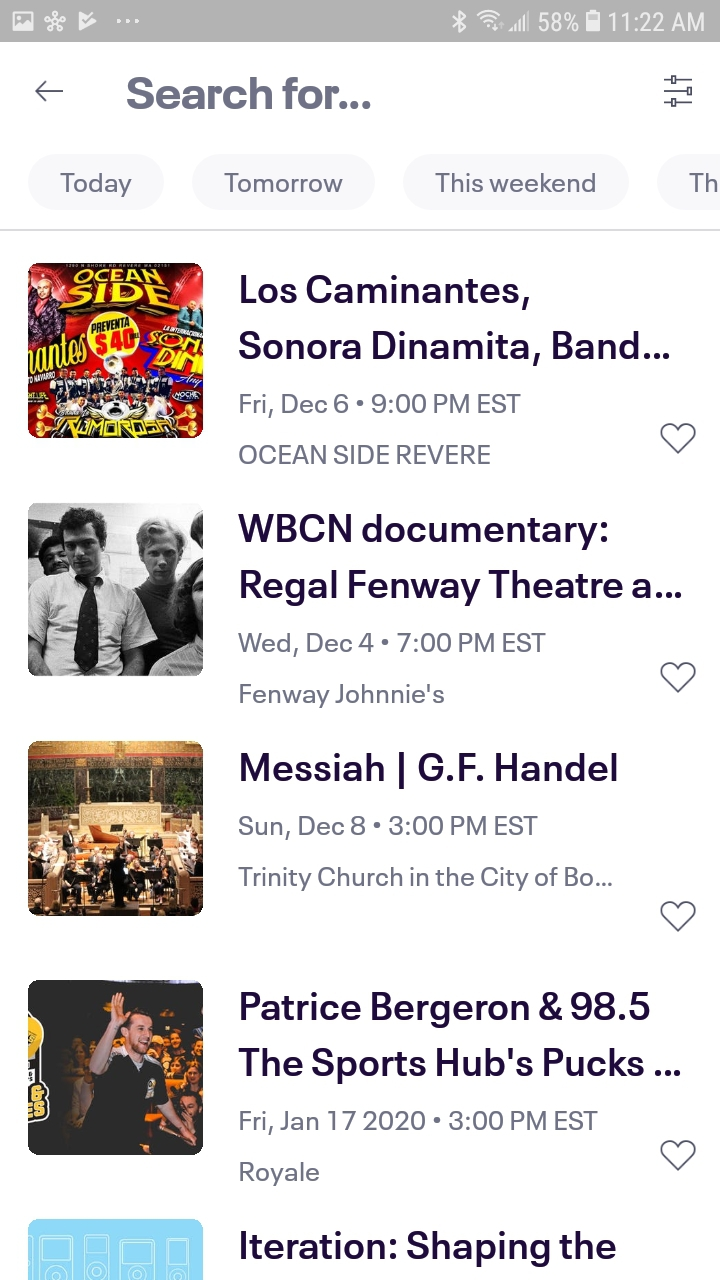Icon: (660, 423, 697, 455), (659, 662, 696, 694), (660, 901, 696, 933), (660, 1139, 696, 1171), (663, 75, 693, 108), (36, 80, 65, 103)
Image: (28, 263, 204, 439), (28, 980, 204, 1156), (28, 502, 204, 677), (29, 741, 204, 917), (29, 1218, 204, 1280)
Text: (238, 513, 682, 607), (239, 991, 681, 1085), (239, 274, 670, 367), (237, 815, 612, 892), (240, 1110, 598, 1187), (239, 632, 547, 709), (239, 394, 522, 466), (241, 752, 618, 790), (241, 1230, 617, 1268), (128, 77, 372, 111)
TextButton: (403, 154, 630, 211), (192, 154, 376, 211), (29, 154, 166, 211), (657, 155, 720, 212)
UpperTaskBar: (1, 1, 720, 43)
